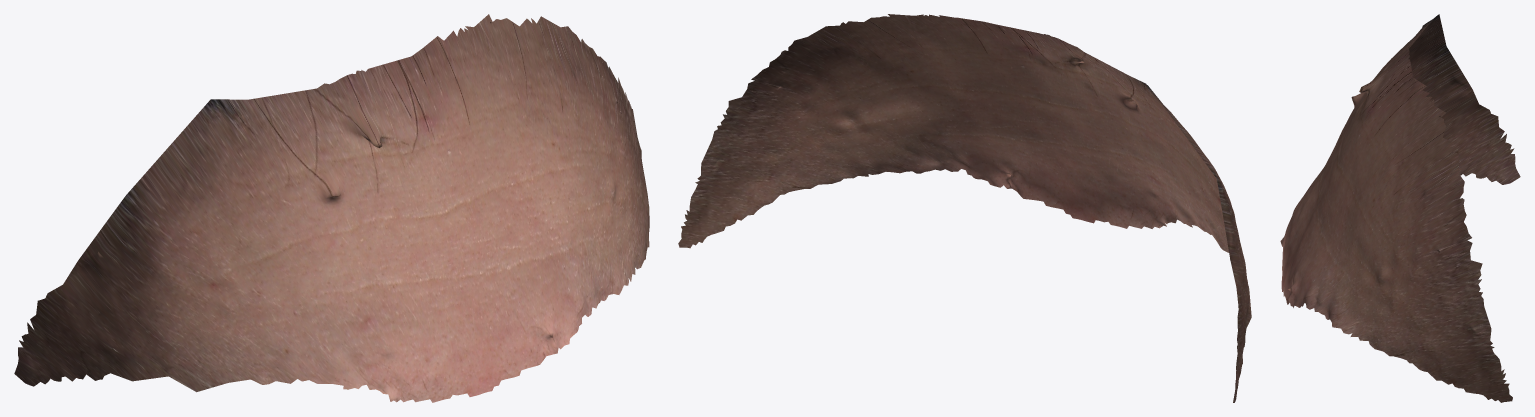
The model's file is forehead01.obj.
3 renders of one model, left to right at view 1: azimuth 30°, elevation 25°; view 2: azimuth 150°, elevation 25°; view 3: azimuth 270°, elevation 25°, orthographic. The views are drawn at different scales.
Parts seen in each view (by area): view 1: default; view 2: default; view 3: default.
Boxes of the visible parts, bbox=[...] form: default: bbox=[14, 14, 649, 402]; default: bbox=[678, 14, 1251, 402]; default: bbox=[1280, 14, 1520, 402].
Size of the model in its own units: 142 by 65.65 by 60.5.
Materials: 1 (1 with a texture image).
